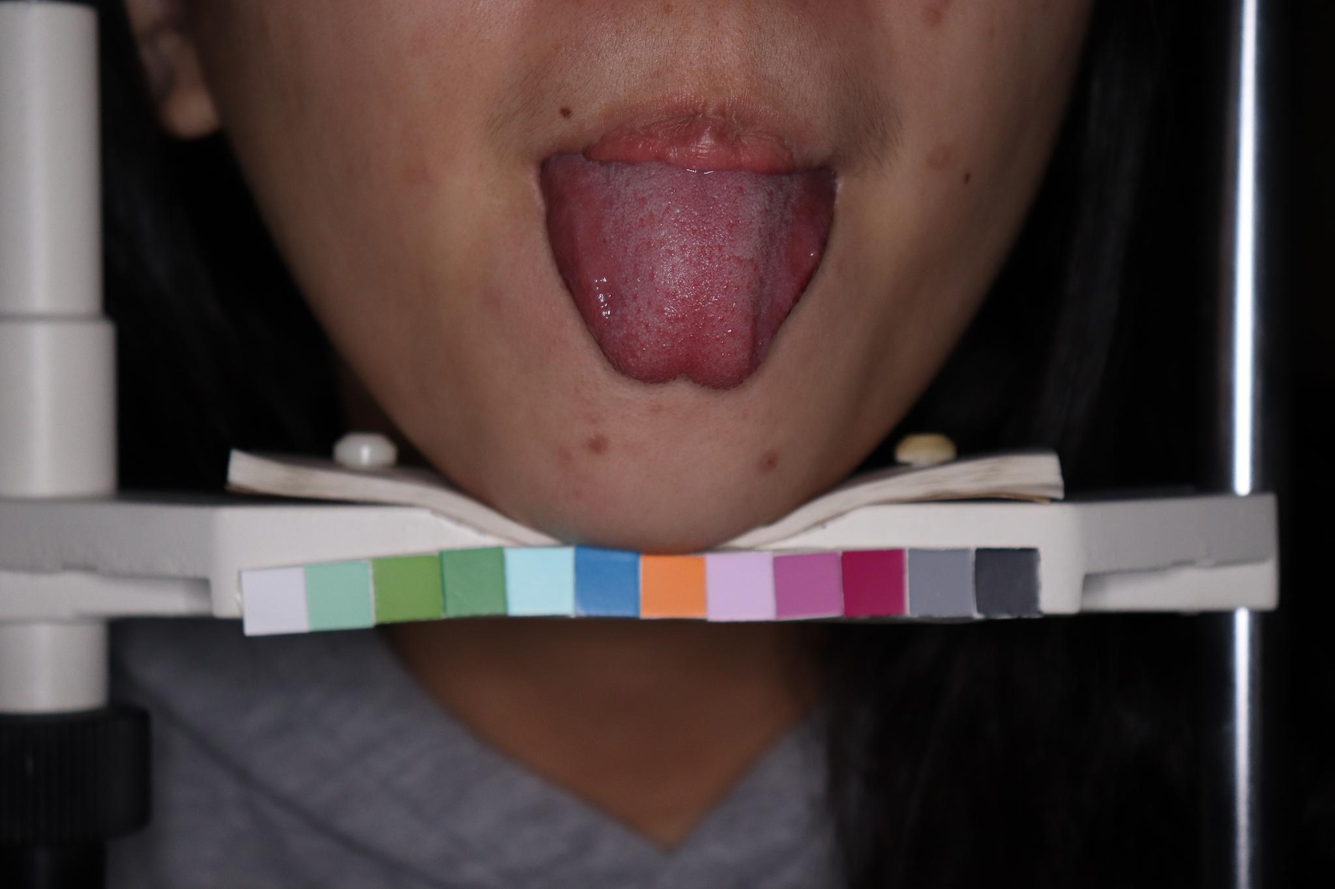baitaishe: (541, 150, 836, 392)
hongdianshe: (598, 236, 608, 246), (724, 326, 733, 335), (721, 281, 727, 291), (687, 332, 695, 339), (653, 286, 660, 293), (646, 300, 653, 307)
hongshe: (541, 150, 836, 392)
xinfeiao: (632, 360, 729, 392)
